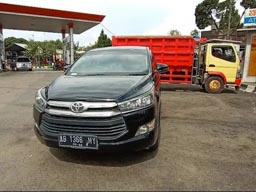plat: (55, 134, 98, 143)
